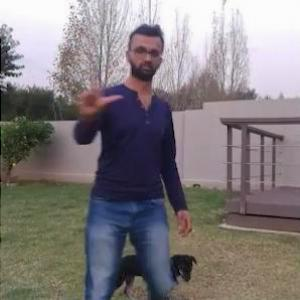land_hand: (72, 56, 123, 120)
